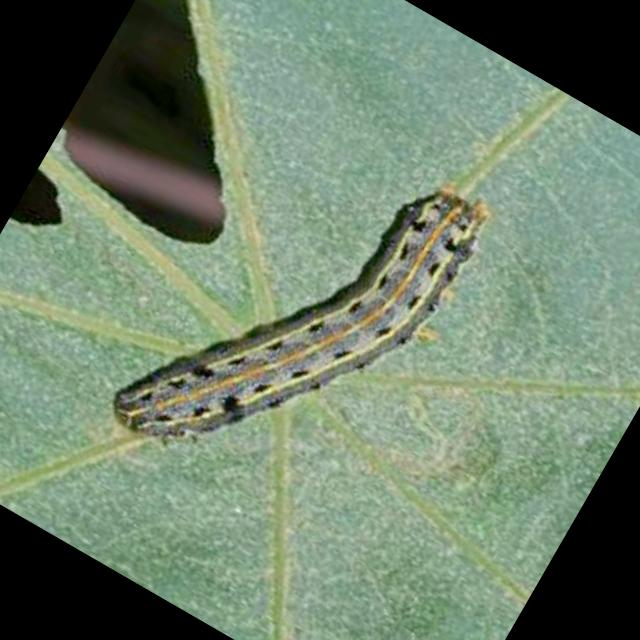Tobacco cutworm: (42, 58, 544, 604)
